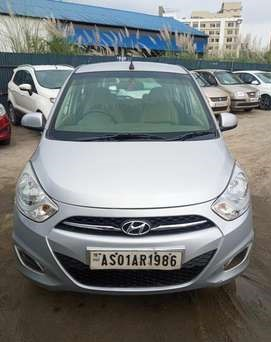AS01AR1986: (89, 250, 182, 268)
